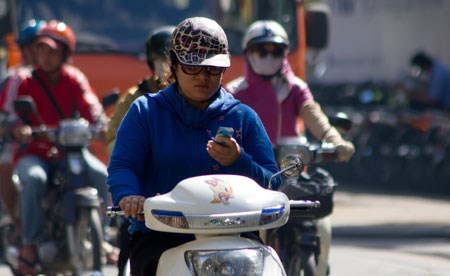dieu khien xe may: (140, 14, 290, 275)
su dung dien thoai: (170, 17, 244, 172)
